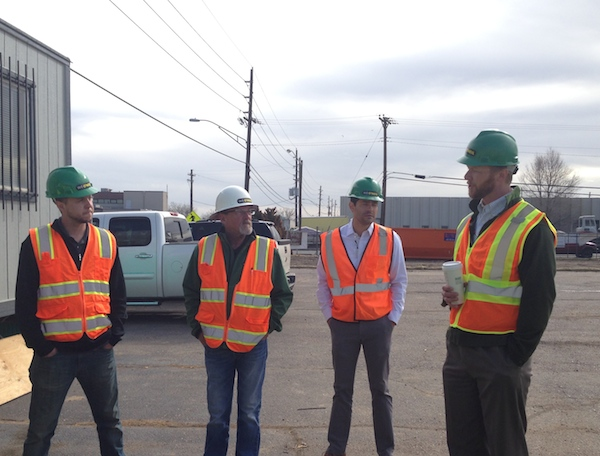Helmet: (455, 126, 522, 211), (43, 162, 106, 227), (208, 184, 268, 238), (344, 175, 394, 230)
Reflective vest: (447, 201, 558, 337), (25, 219, 119, 344), (194, 232, 279, 353), (319, 220, 398, 326)
